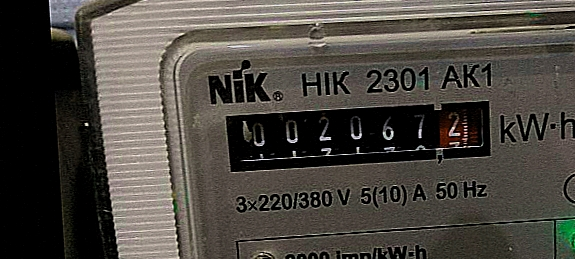0: (247, 120, 267, 150), (344, 112, 364, 141), (281, 116, 300, 146)
2: (443, 109, 463, 139), (314, 114, 333, 144)
6: (377, 113, 397, 143)
7: (410, 111, 428, 142)
screen: (210, 86, 507, 186)
